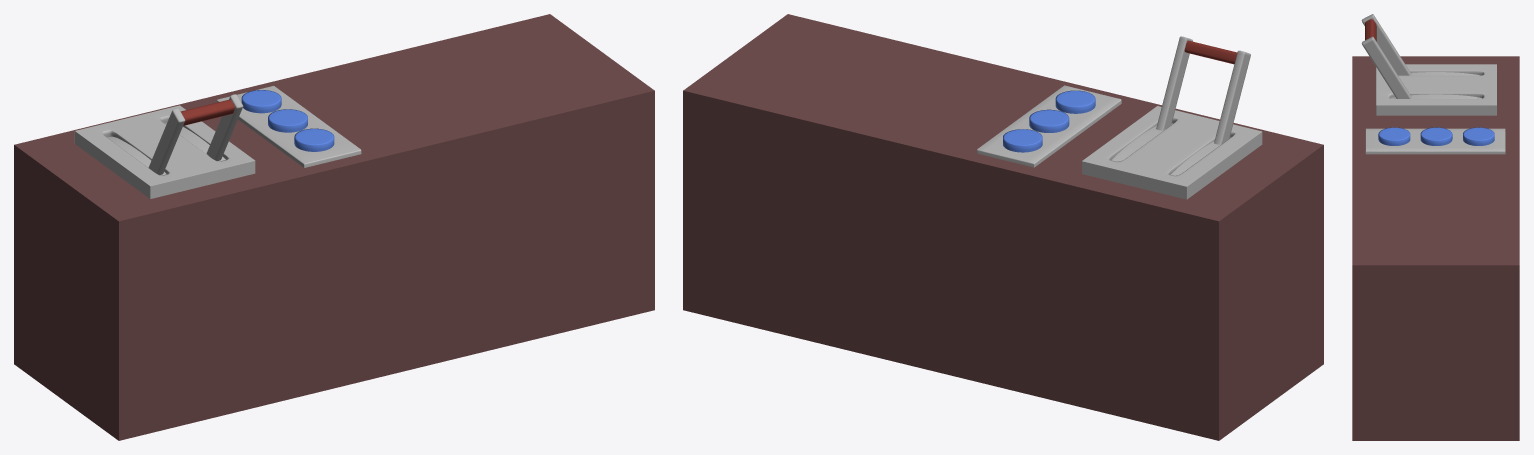
Rendered from Locomotive_Table.fbx.
3 views of the same model, side by side, from view 1: azimuth 30°, elevation 25°; view 2: azimuth 150°, elevation 25°; view 3: azimuth 270°, elevation 25° (orthographic). The views are drawn at different scales.
Visible parts, largest first — view 1: ButtonTop1; view 2: ButtonTop1; view 3: ButtonTop1.
Boxes of the visible parts, x1,y1,x2,y2 form: ButtonTop1: [14, 14, 654, 440]; ButtonTop1: [683, 14, 1323, 440]; ButtonTop1: [1352, 14, 1519, 440].
Bounding box in the file's own units: 2.55 × 1.39 × 0.8644.
